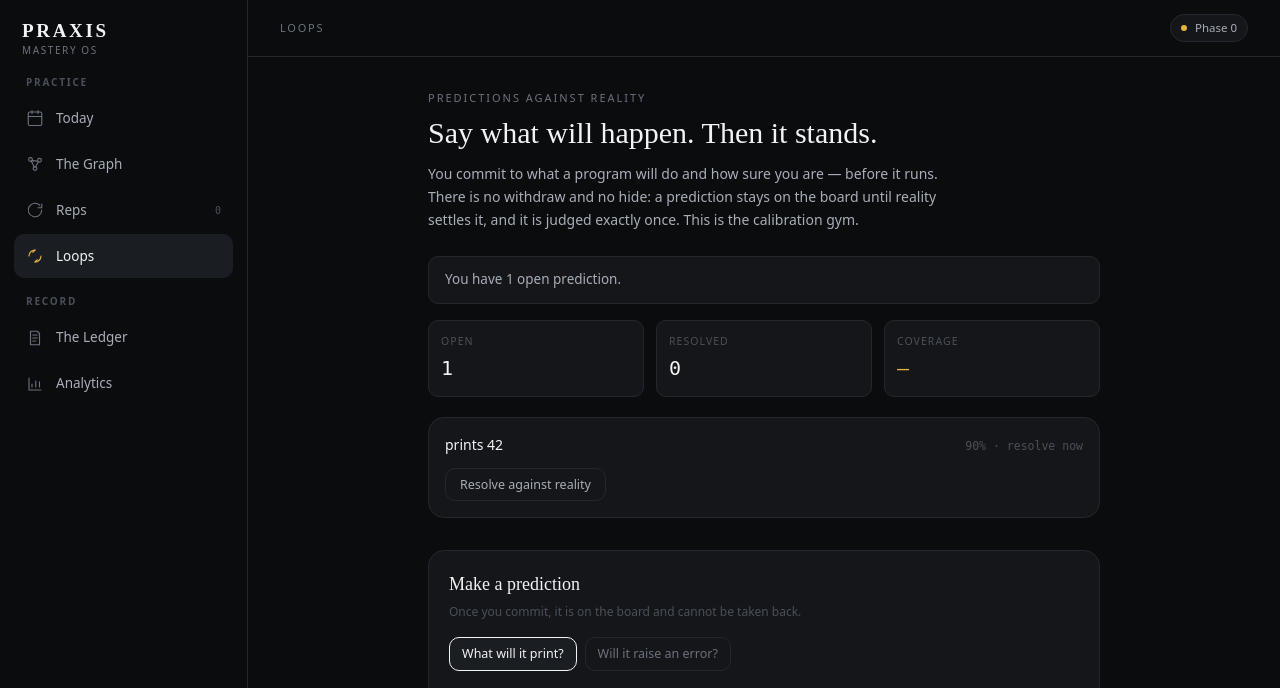
Test: LoopsPage › shows the board and resolves a prediction against reality
Expected: the text "prints 42" is shown, [445,434,503,456]
Click the button "Resolve against reality". click: {"x": 526, "y": 484}
box: [445,468,606,501]
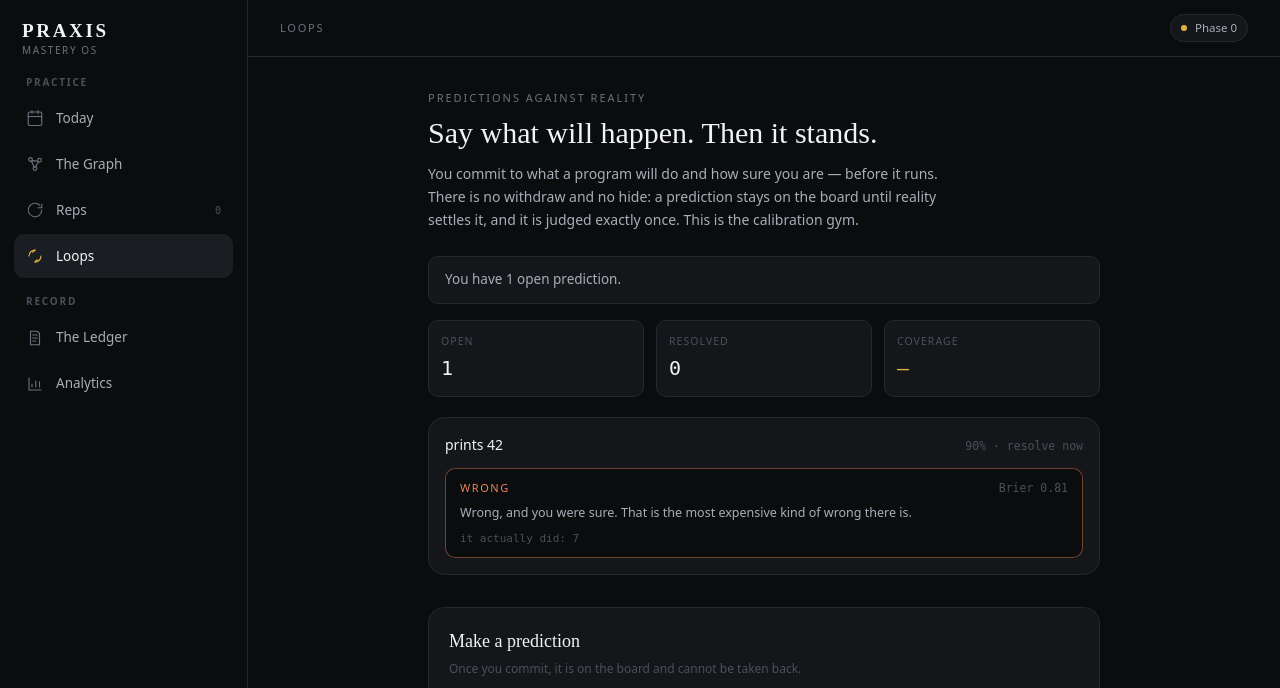
Expected: the text "Wrong" is shown, [460,479,510,496]
Expected: the text "most expensive" is shown, [460,504,912,521]
Expected: the text "it actually did: 7" is shown, [460,532,579,545]
